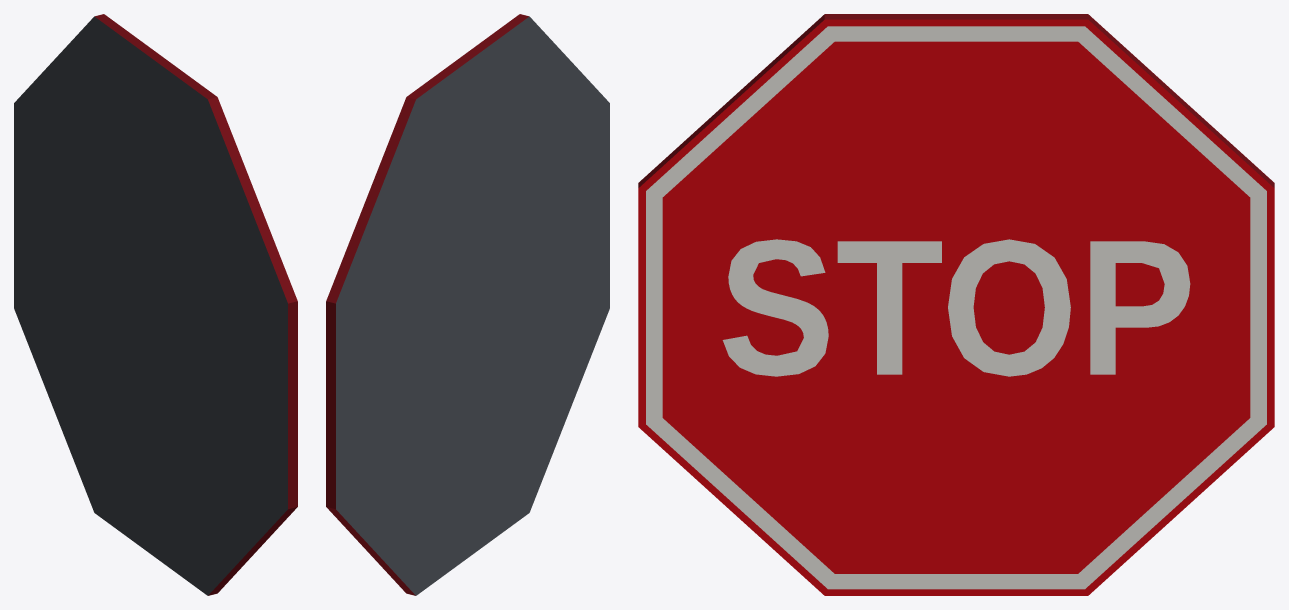
Rendered from stop.dae.
The picture shows the model from 3 angles, left to right: view 1: azimuth 30°, elevation 25°; view 2: azimuth 150°, elevation 25°; view 3: azimuth 270°, elevation 25°; orthographic projection. The views are drawn at different scales.
Parts seen in each view (by area): view 1: stop; view 2: stop; view 3: stop.
Boxes of the visible parts, box(x1,y1,x2,y2) form: stop: box(14, 14, 297, 595); stop: box(326, 14, 609, 595); stop: box(638, 14, 1274, 595).
Size of the model in its own units: 0.00735 by 0.34 by 0.34.
